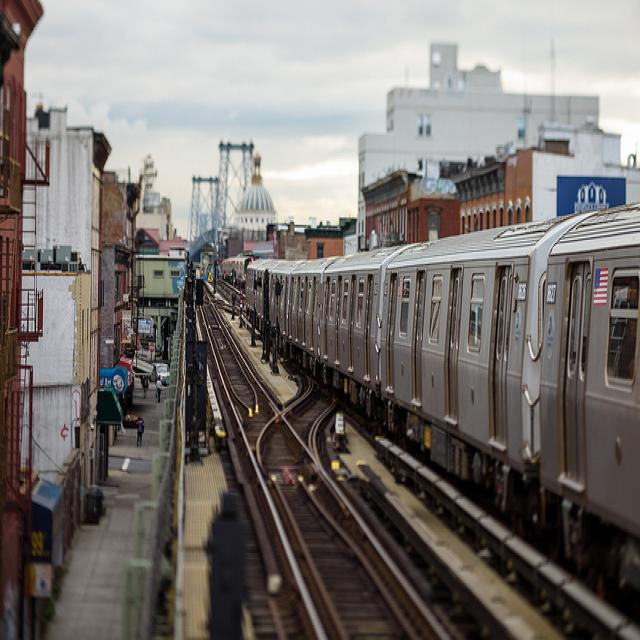Vehicle: (150, 364, 170, 385)
